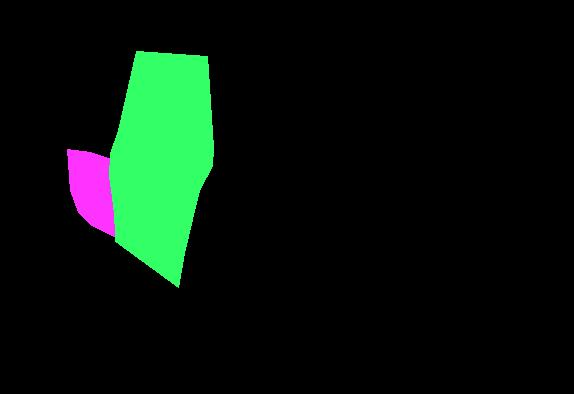Broken part: (109, 51, 213, 287)
Cracked: (129, 228, 137, 241)
Dent: (67, 149, 119, 239)
Scratch: (152, 195, 161, 202)
